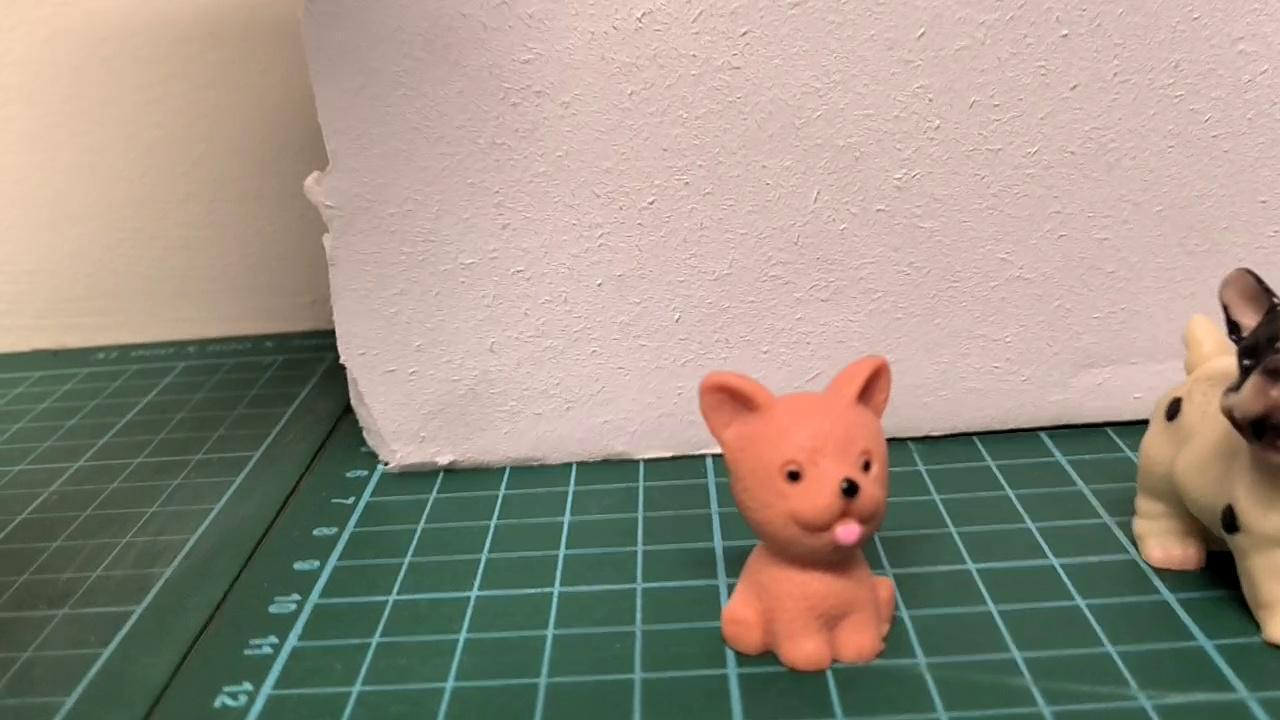pet: (692, 358, 904, 678)
